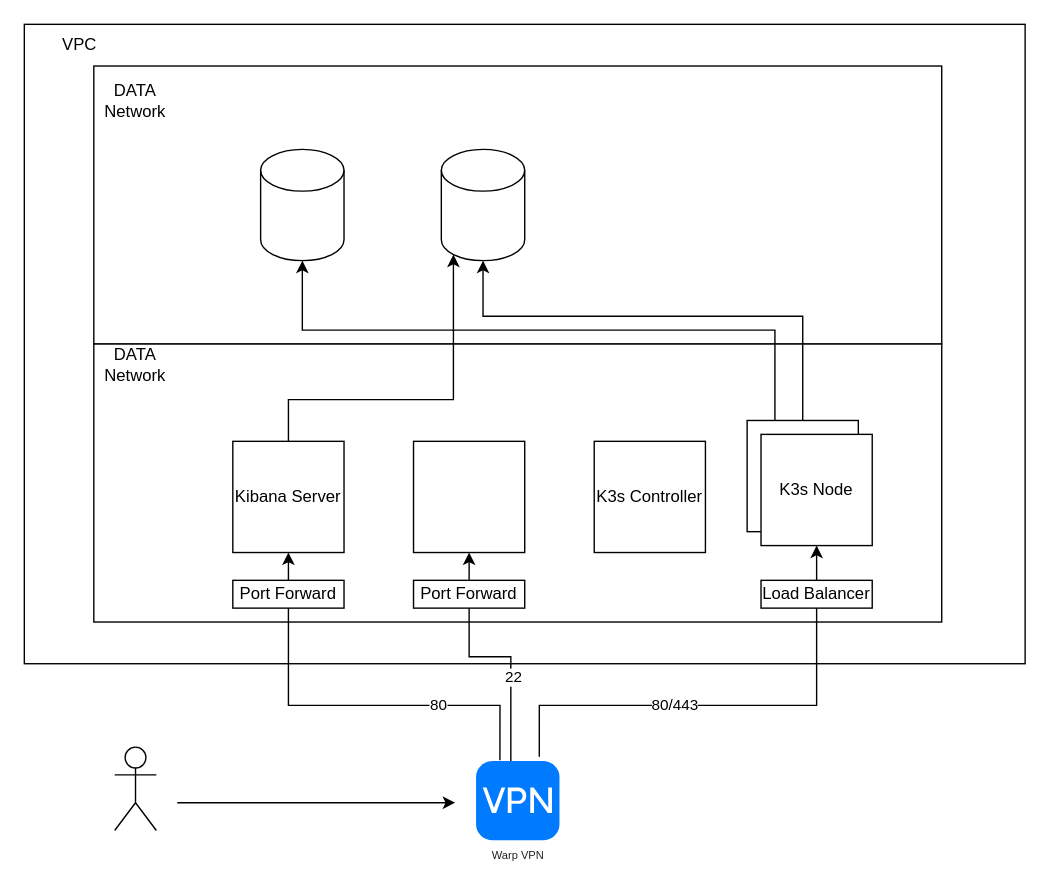
Image size: 1049x888. Some labels were removed from this diagram. Each missing label, with the centre of its shape:
"Actor" belongs at (x=134, y=788).
"Elastic Search" belongs at (x=482, y=204).
"Jump Server" belongs at (x=468, y=496).
"MySql" belongs at (x=301, y=204).
